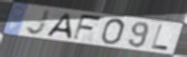9: (127, 21, 151, 49)
A: (44, 12, 73, 40)
F: (70, 13, 104, 42)
J: (25, 9, 52, 36)
L: (150, 24, 170, 52)
O: (99, 18, 127, 46)
